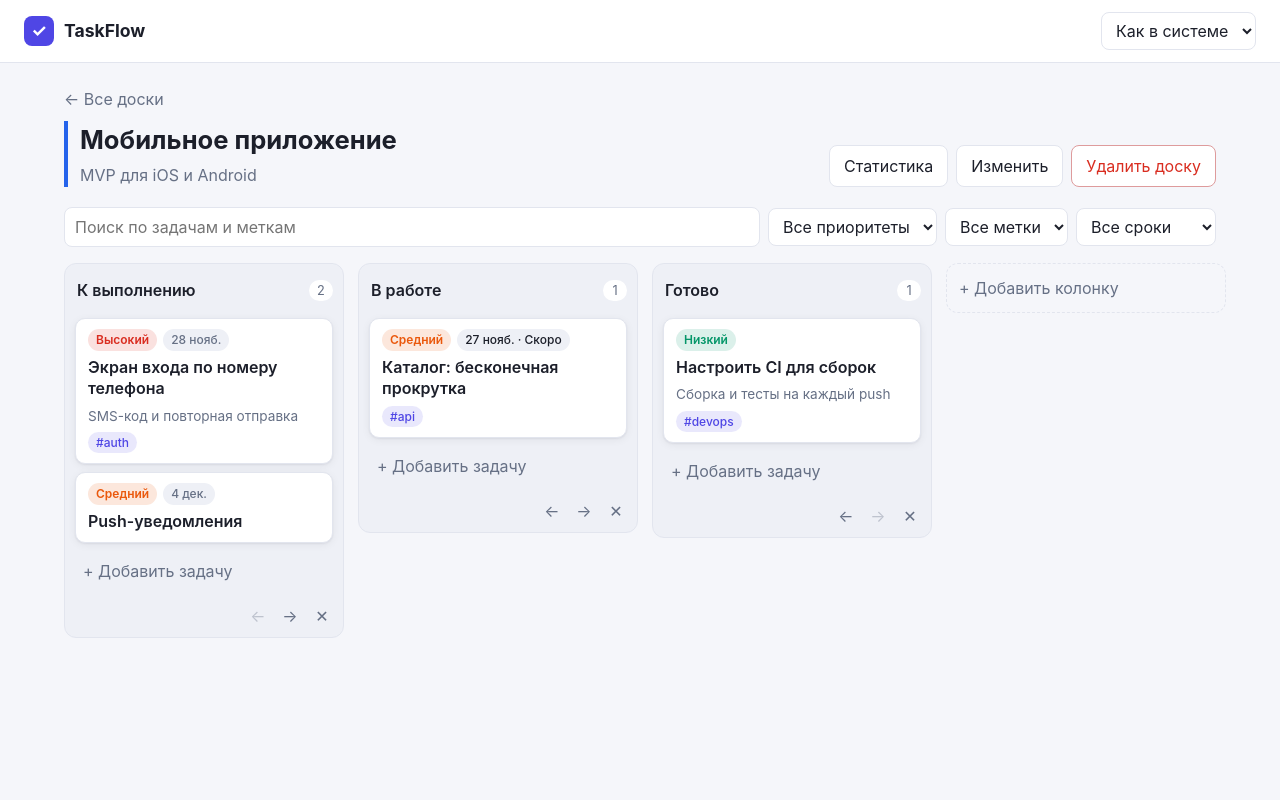
Test: задачи на доске › переносит задачу в другую колонку через форму и удаляет её
Click the button with aria-label "Задача «Push-уведомления»" at (204, 508), box [75,472,333,543]
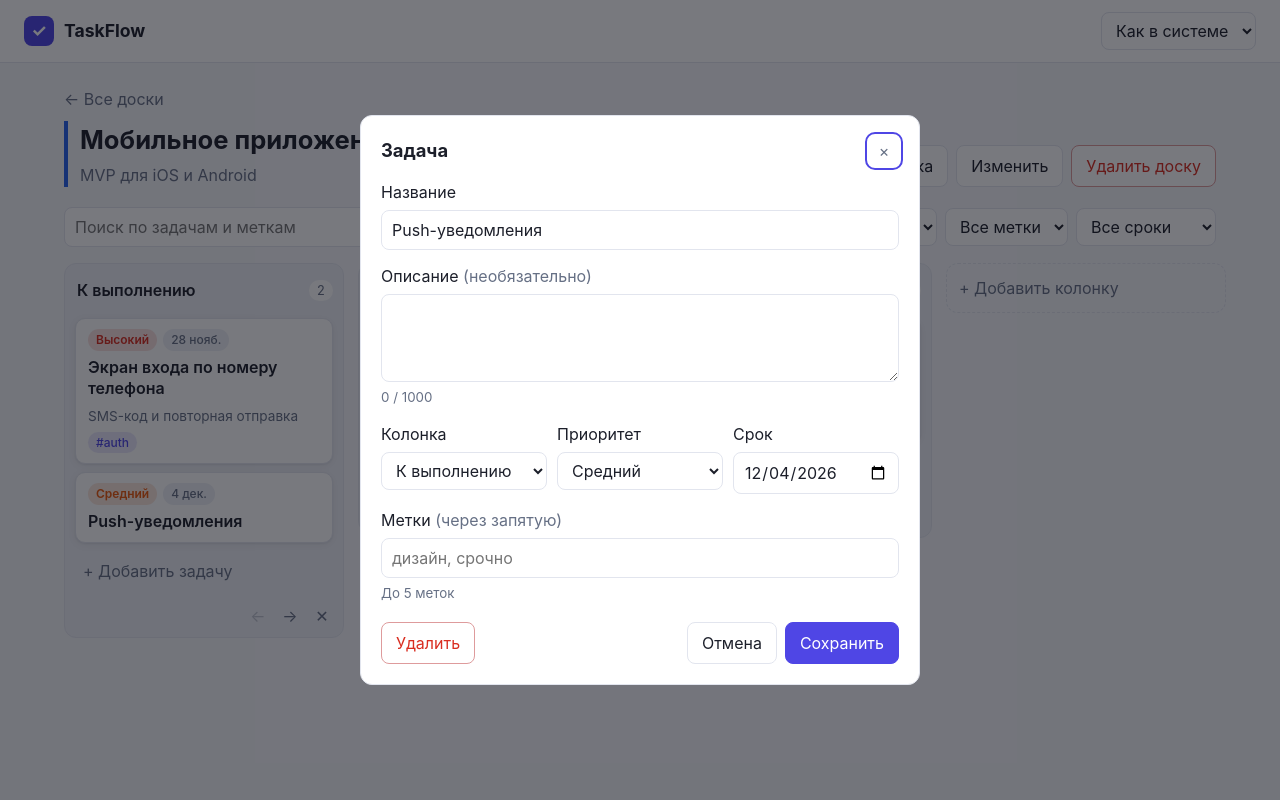
Select "Готово" in the dropdown labelled "Колонка" at (464, 471), box [381,452,547,490]
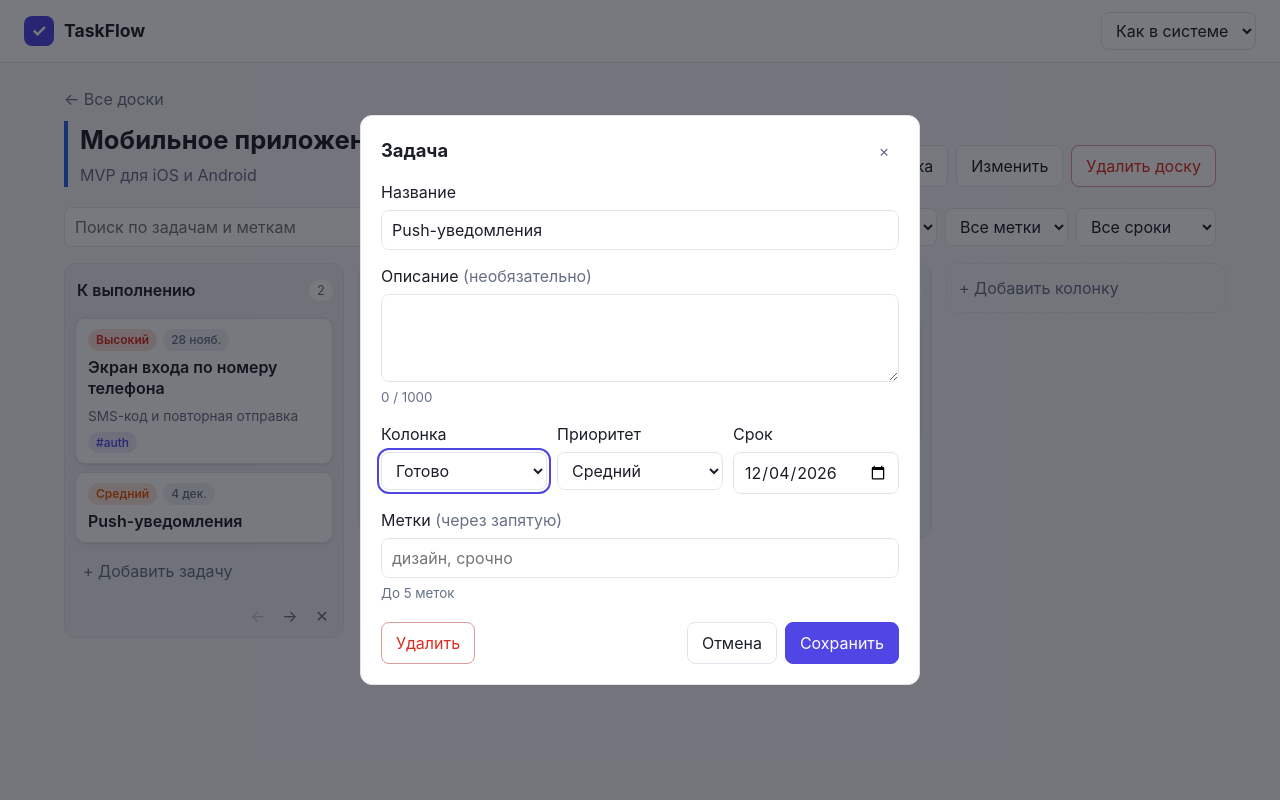
Click the button "Сохранить" at (842, 643), box [785,622,899,664]
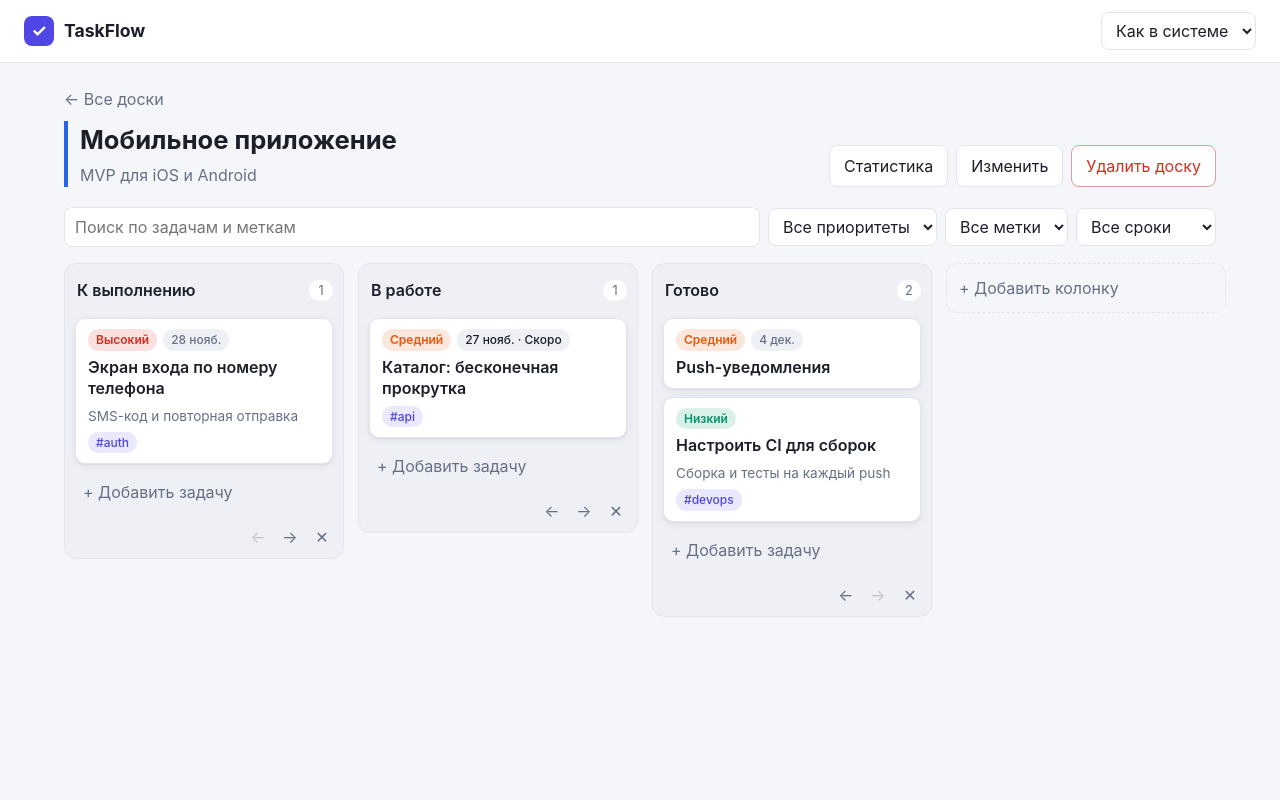
Click the button with aria-label "Задача «Push-уведомления»" at (792, 354), box [663,318,921,389]
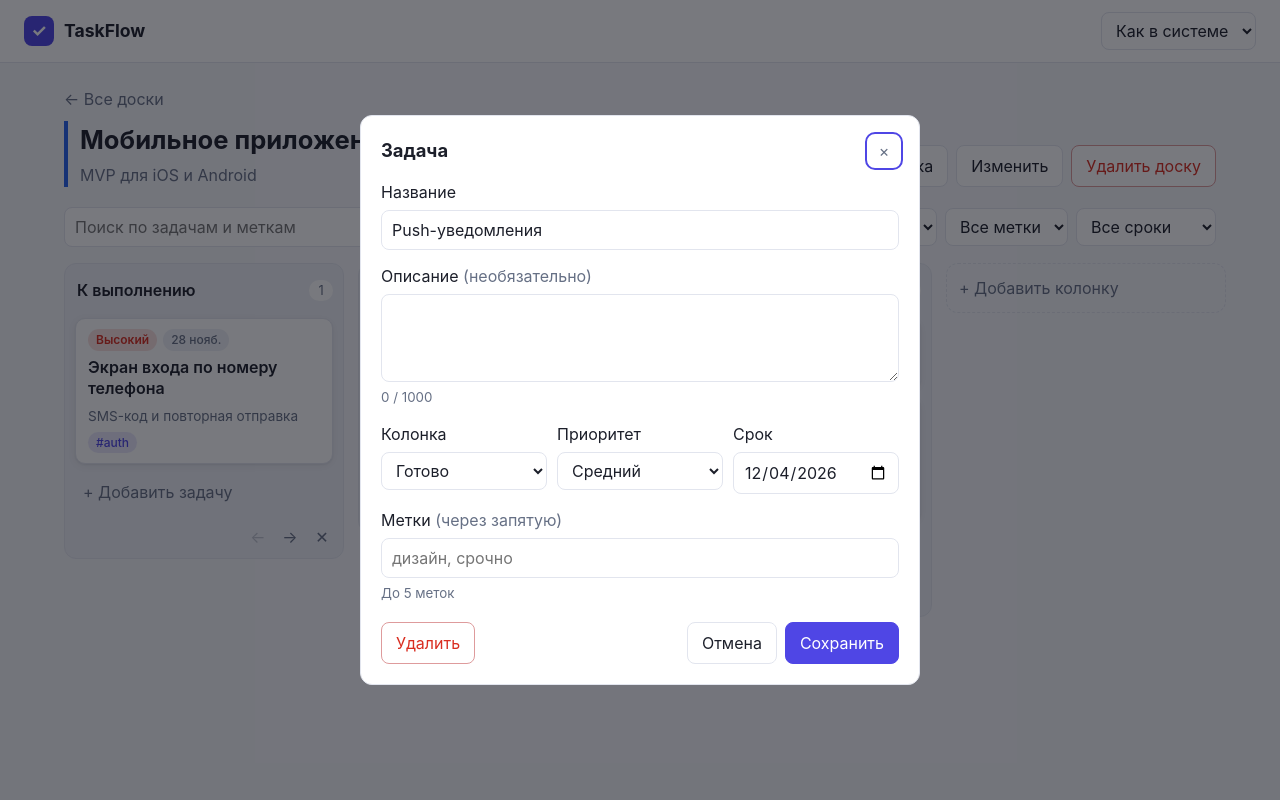
Click the button "Удалить" at (428, 643), box [381,622,475,664]
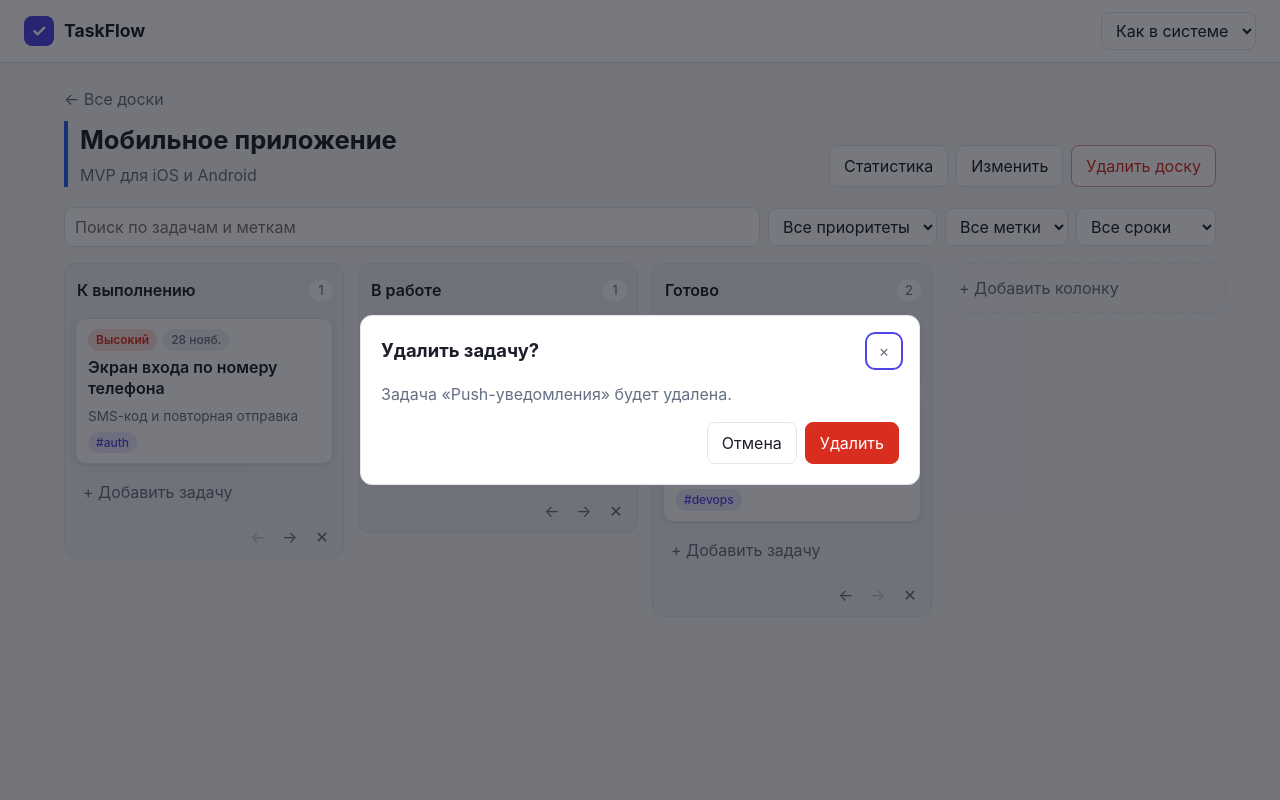
Click the button "Удалить" at (852, 443), box [805,422,899,464]
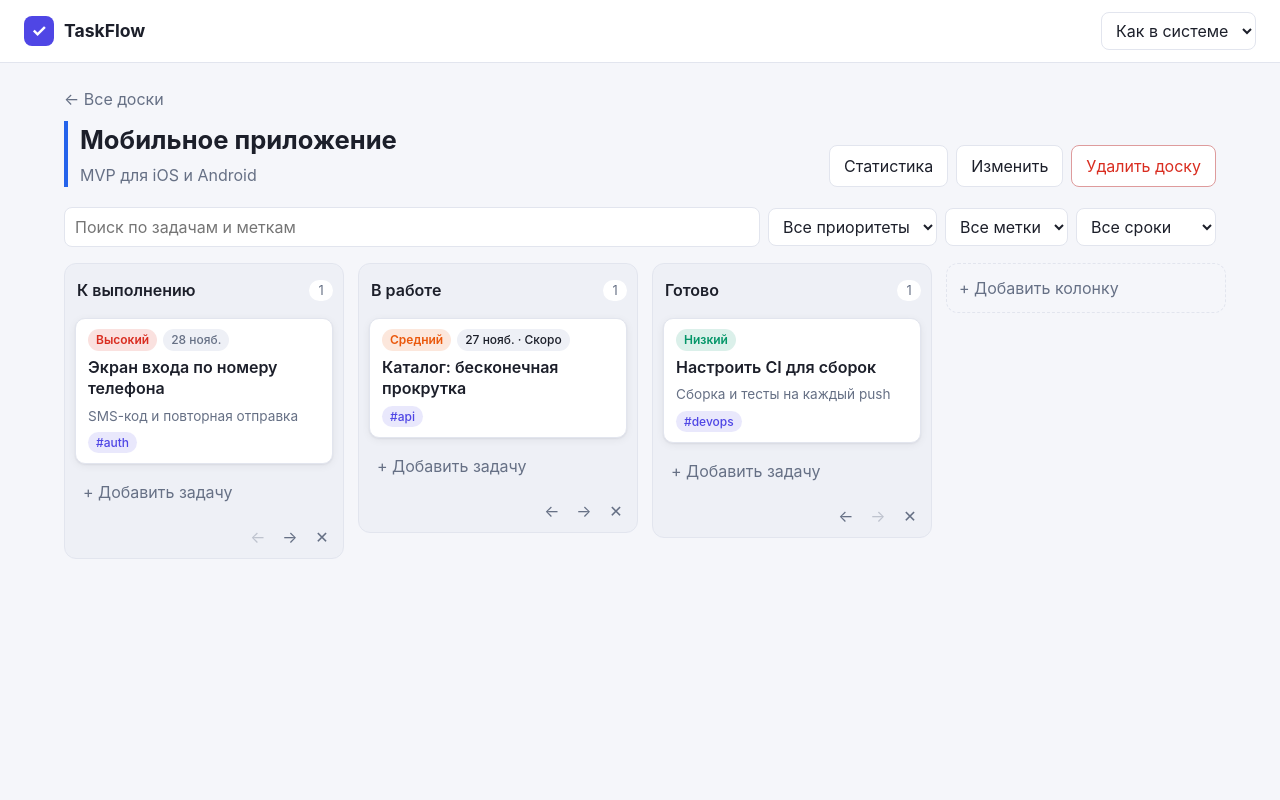
Now the text "Задача «Push-уведомления»" is gone
